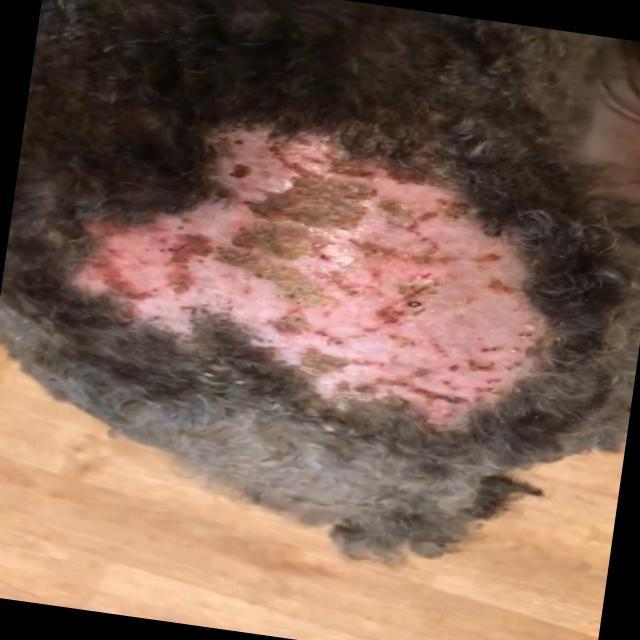allergic dermatitis: (63, 110, 539, 431)
